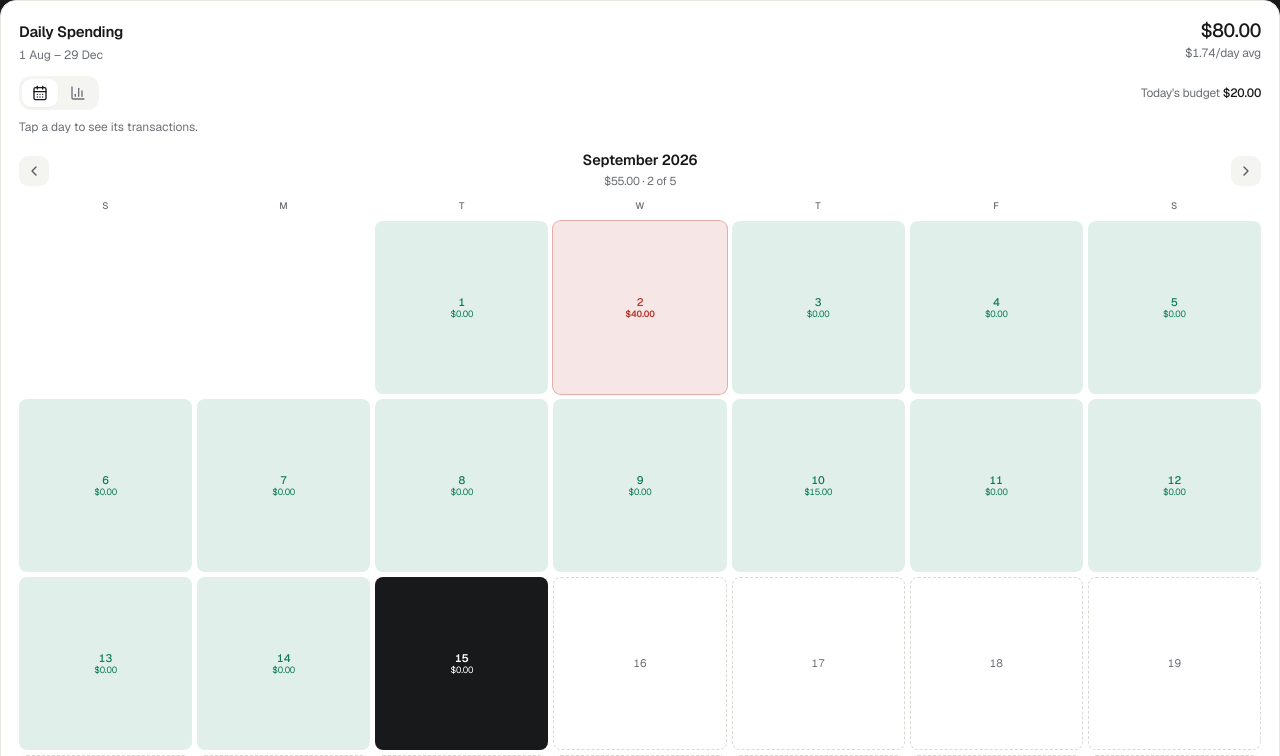
Test: long periods › step backwards and forwards
The image size is (1280, 756).
Step 1. Click the button named "Previous month" → x=34, y=171, box [19,156,49,186]
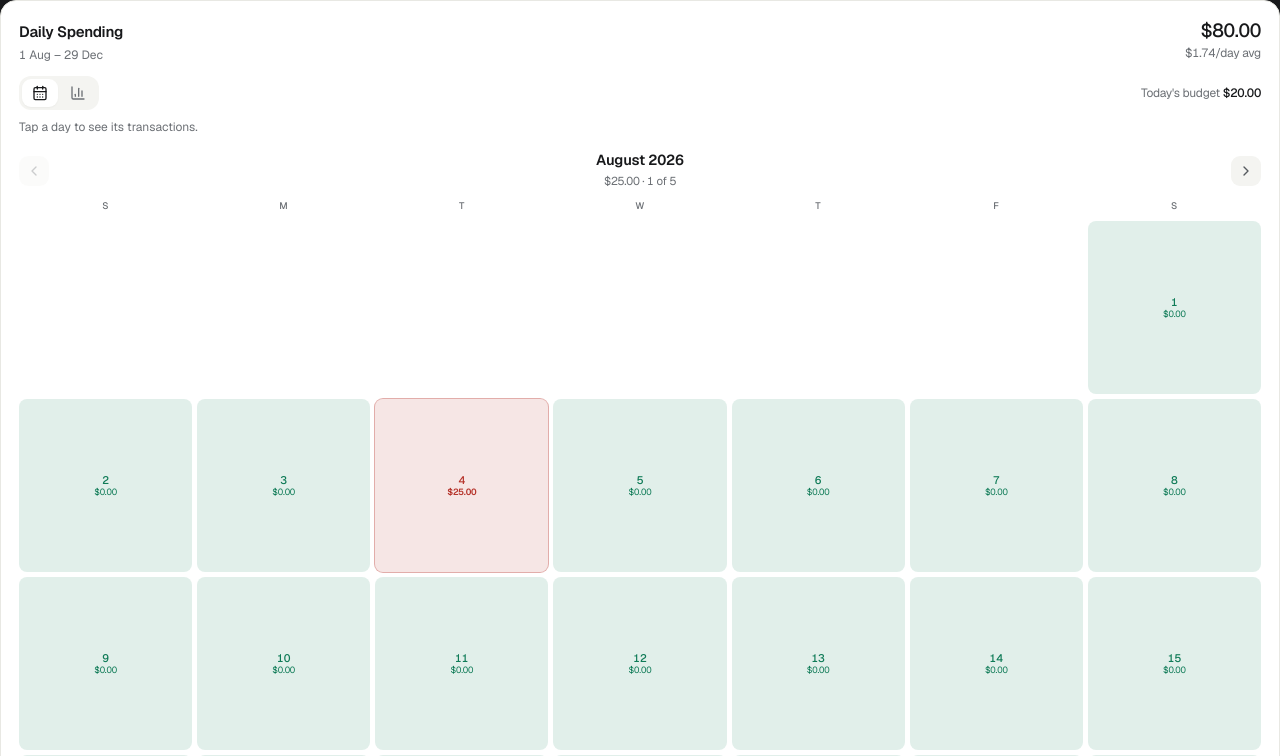
Check: the text "August 2026" is shown, box [596,153,684,168]
Check: the text "$25.00 · 1 of 5" is shown, box [604,172,676,188]
Step 2. Click the button named "Next month" → x=1246, y=171, box [1231,156,1261,186]
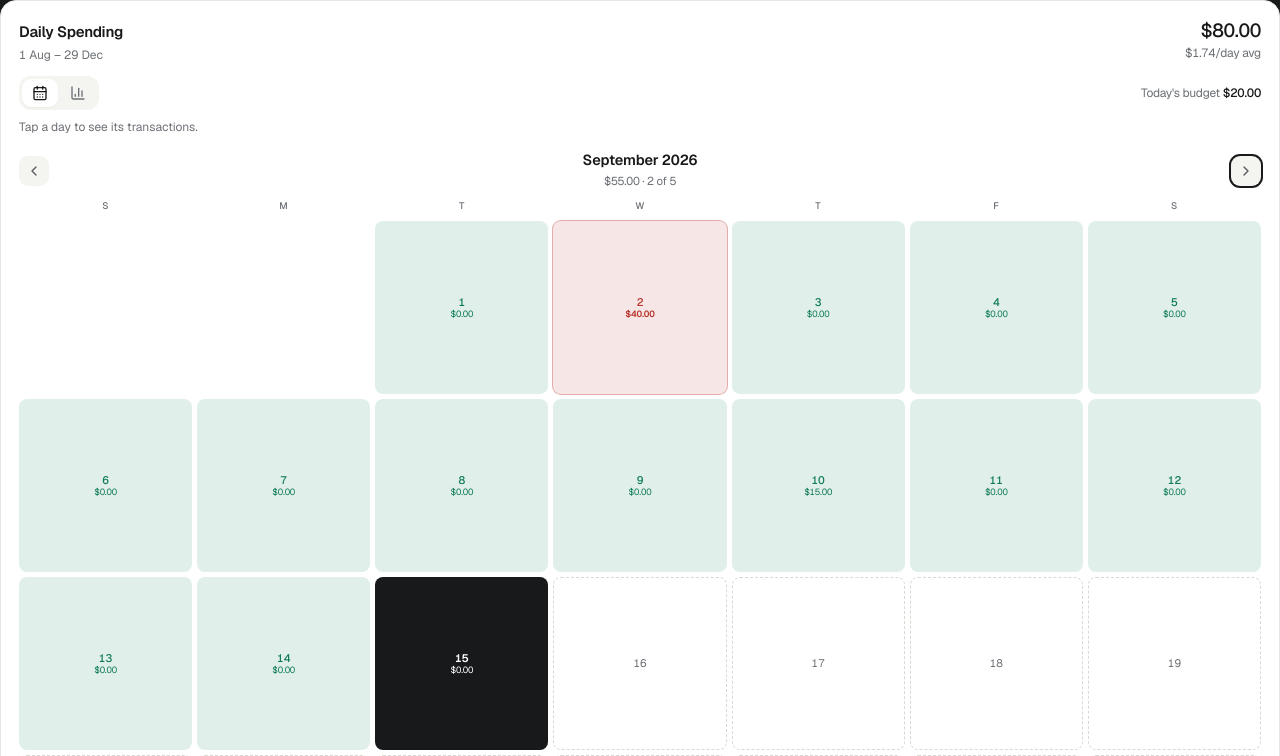
Step 3. Click the button named "Next month" → x=1246, y=171, box [1231,156,1261,186]
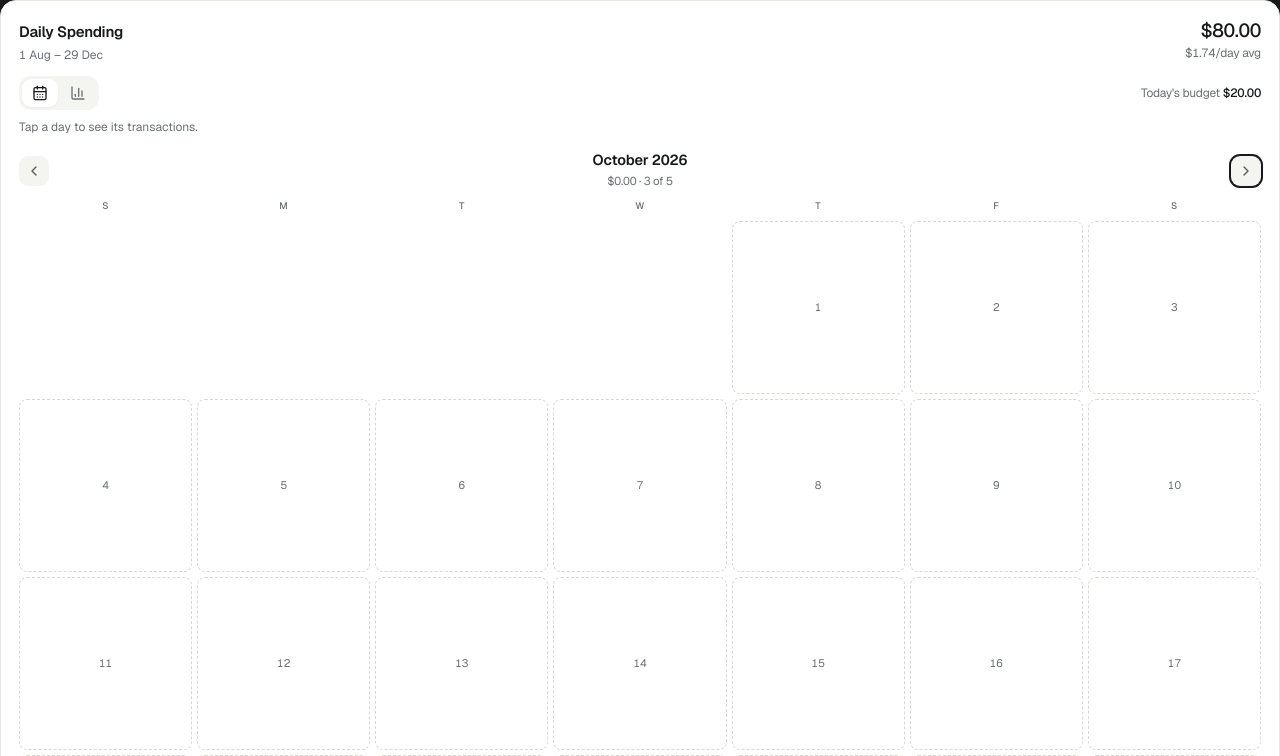
Check: the text "October 2026" is shown, box [592,153,687,168]
